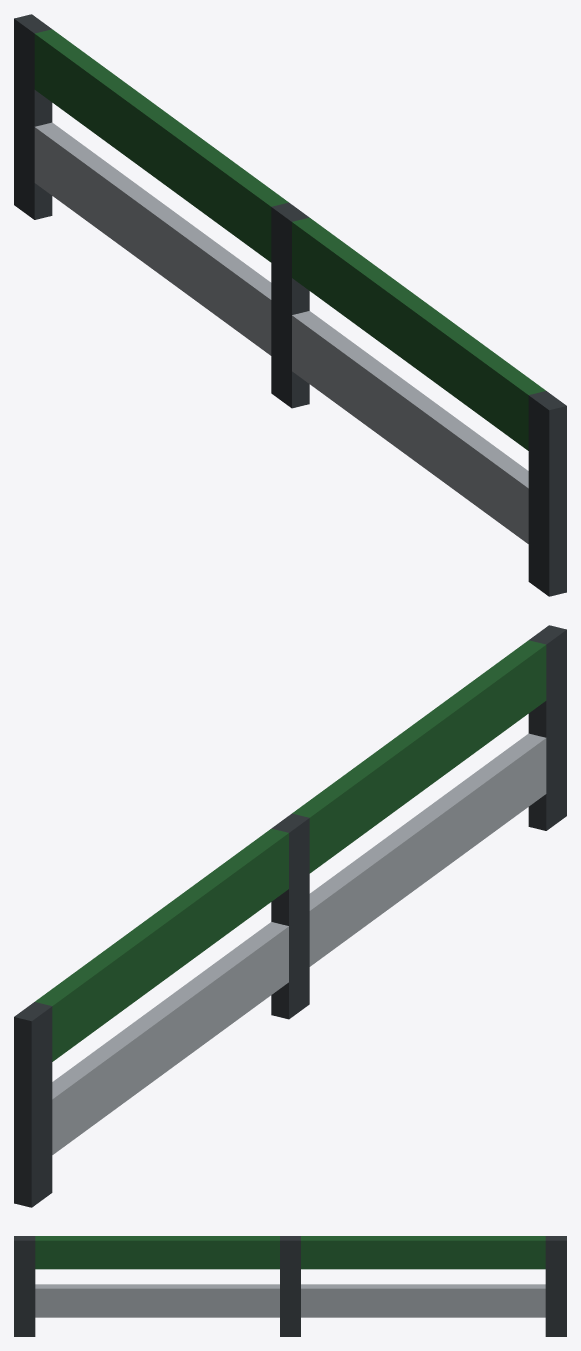
The model's file is livestock_trailer_top_gate.glb.
3 views of the same model, one above another, from view 1: azimuth 30°, elevation 25°; view 2: azimuth 150°, elevation 25°; view 3: azimuth 270°, elevation 25° (orthographic). The views are drawn at different scales.
Visible parts, largest first — view 1: body:compound; view 2: body:compound; view 3: body:compound.
Part boxes in pixels (x1,y1,x2,y2): body:compound: (14, 14, 566, 596); body:compound: (14, 625, 566, 1207); body:compound: (14, 1236, 566, 1336).
Bounding box in the file's own units: 0.0312 × 0.3125 × 1.62.
